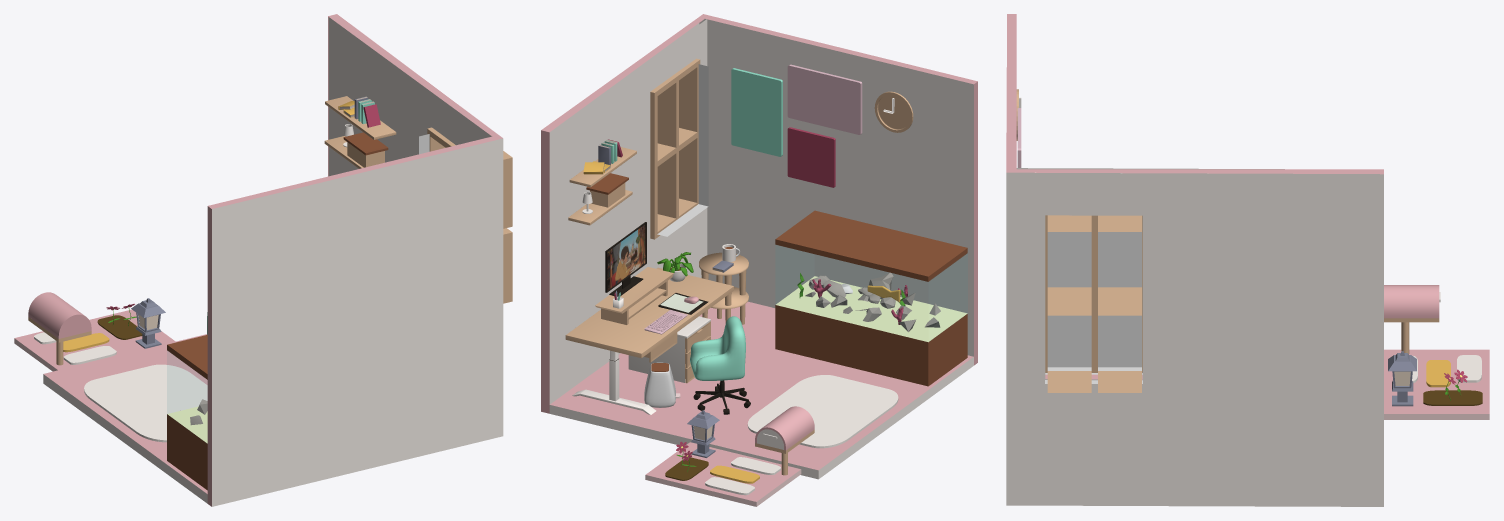
Rendered from room.glb.
The picture shows the model from 3 angles, left to right: view 1: azimuth 30°, elevation 25°; view 2: azimuth 150°, elevation 25°; view 3: azimuth 270°, elevation 25°; orthographic projection. The views are drawn at different scales.
Parts seen in each view (by area): view 1: room, 平面.012, 立方体.034, room.002, 円柱.015, window, Table Top.007, 平面.003, stand, 平面.013, 平面.010, 平面.009; view 2: room, 立方体.034, window, 平面.012, Table Top, 平面.014, 平面.007, room.002, 立方体, 平面.015, Table Top.002, 立方体.033 (+20 smaller); view 3: room, 立方体.033, window, room.002, 円柱.015, 平面.003, 平面.013, 平面.009, 平面.008.
Boxes of the visible parts, left/top/right/bottom form: room: left=43, top=14, right=503, bottom=506; 平面.012: left=84, top=364, right=207, bottom=442; 立方体.034: left=167, top=335, right=207, bottom=490; room.002: left=14, top=309, right=175, bottom=371; 円柱.015: left=28, top=292, right=91, bottom=342; window: left=427, top=127, right=512, bottom=303; Table Top.007: left=343, top=132, right=388, bottom=167; 平面.003: left=131, top=298, right=165, bottom=348; stand: left=325, top=96, right=396, bottom=139; 平面.013: left=97, top=315, right=142, bottom=339; 平面.010: left=63, top=346, right=116, bottom=364; 平面.009: left=63, top=333, right=109, bottom=352; room: left=541, top=14, right=977, bottom=479; 立方体.034: left=775, top=210, right=967, bottom=386; window: left=650, top=58, right=700, bottom=239; 平面.012: left=747, top=375, right=898, bottom=448; Table Top: left=565, top=267, right=733, bottom=358; 平面.014: left=787, top=64, right=862, bottom=134; 平面.007: left=731, top=68, right=782, bottom=156; room.002: left=645, top=442, right=801, bottom=506; 立方体: left=690, top=316, right=745, bottom=380; 平面.015: left=787, top=127, right=835, bottom=187; Table Top.002: left=595, top=267, right=673, bottom=324; 立方体.033: left=657, top=64, right=708, bottom=236; room: left=1006, top=14, right=1383, bottom=506; 立方体.033: left=1045, top=232, right=1142, bottom=383; window: left=1045, top=215, right=1142, bottom=392; room.002: left=1384, top=349, right=1489, bottom=419; 円柱.015: left=1384, top=285, right=1440, bottom=322; 平面.003: left=1388, top=351, right=1416, bottom=406; 平面.013: left=1423, top=390, right=1482, bottom=405; 平面.009: left=1426, top=360, right=1450, bottom=387; 平面.008: left=1457, top=355, right=1481, bottom=382.
Size of what is drawn, in the model's own units: 19.42 by 17.33 by 22.81.
21 materials, 1 textured.
